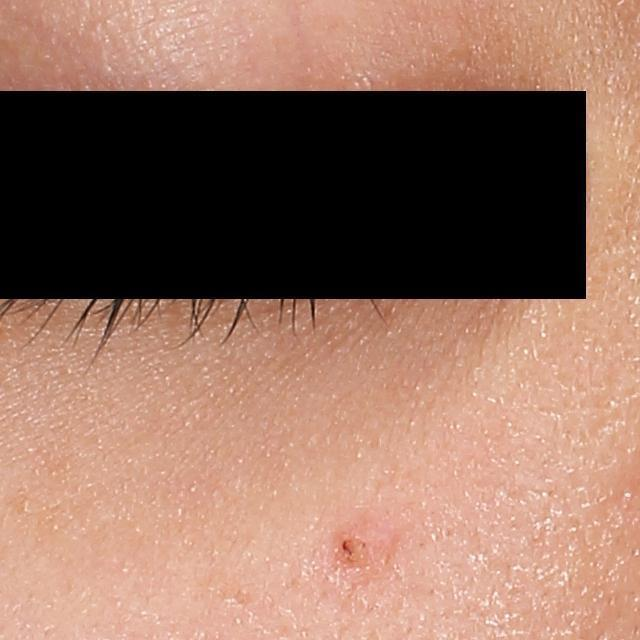papule: (331, 516, 396, 570)
